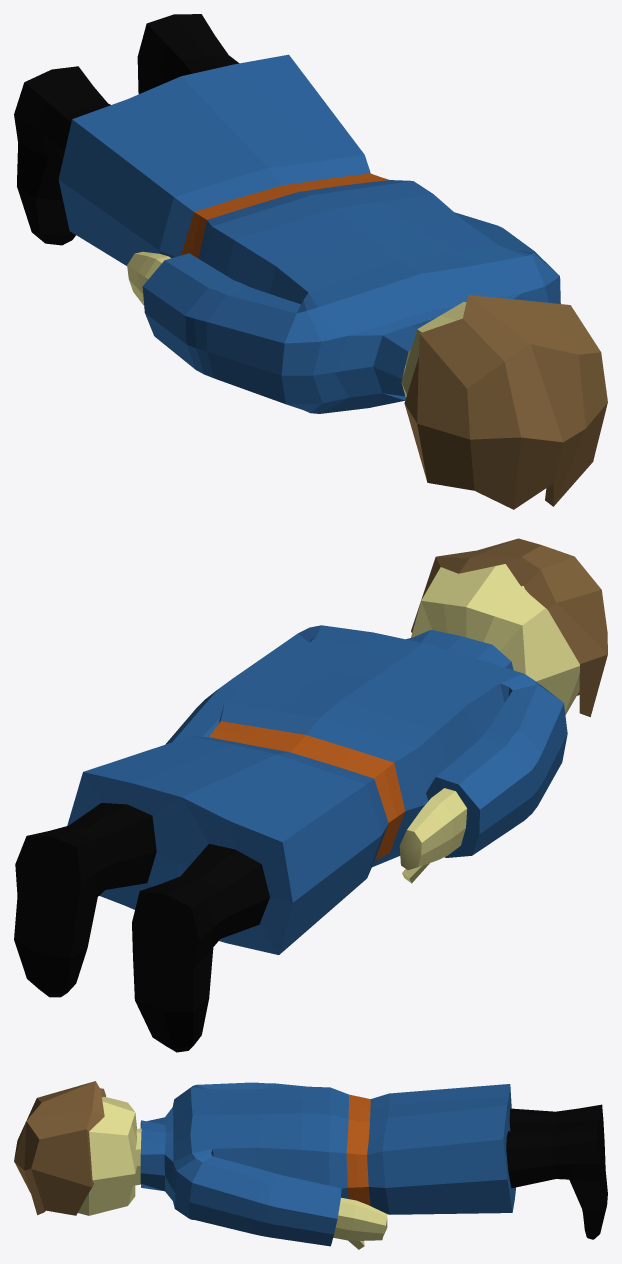
The model's file is personMatus.glb.
The picture shows the model from 3 angles, top to bottom: view 1: azimuth 30°, elevation 25°; view 2: azimuth 150°, elevation 25°; view 3: azimuth 270°, elevation 25°; orthographic projection. The views are drawn at different scales.
Visible parts, largest first — view 1: shadeBlue, shadeBrown, shadeGray, shadeOrange, shadeYellow.001; view 2: shadeBlue, shadeGray, shadeYellow.001, shadeBrown, shadeOrange; view 3: shadeBlue, shadeGray, shadeBrown, shadeYellow.001, shadeOrange.
Boxes of the visible parts, box(x1,y1,x2,y2) form: shadeBlue: box(58, 54, 560, 413); shadeBrown: box(404, 295, 607, 509); shadeGray: box(14, 14, 239, 245); shadeOrange: box(181, 173, 388, 258); shadeYellow.001: box(127, 251, 466, 397); shadeBlue: box(67, 625, 567, 954); shadeGray: box(14, 803, 269, 1052); shadeYellow.001: box(399, 564, 579, 883); shadeBrown: box(411, 538, 607, 717); shadeOrange: box(209, 721, 405, 860); shadeBlue: box(140, 1082, 515, 1246); shadeGray: box(506, 1104, 607, 1239); shadeBrown: box(14, 1081, 105, 1215); shadeYellow.001: box(78, 1096, 387, 1249); shadeOrange: box(346, 1094, 370, 1205).
Size of the model in its own units: 0.8925 by 0.5573 by 2.08.
